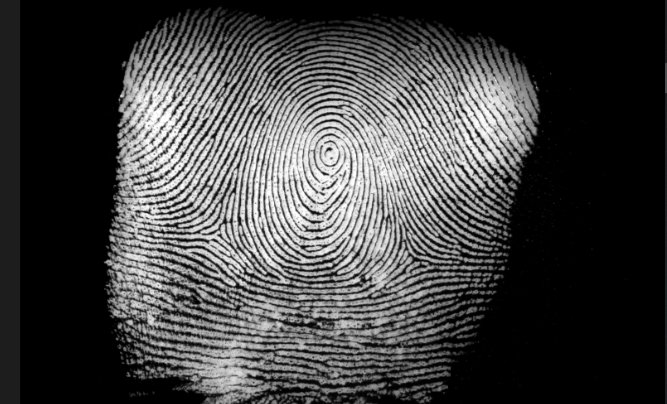nucelo: (314, 132, 346, 175)
verticilo: (204, 217, 233, 249), (391, 242, 424, 269)
